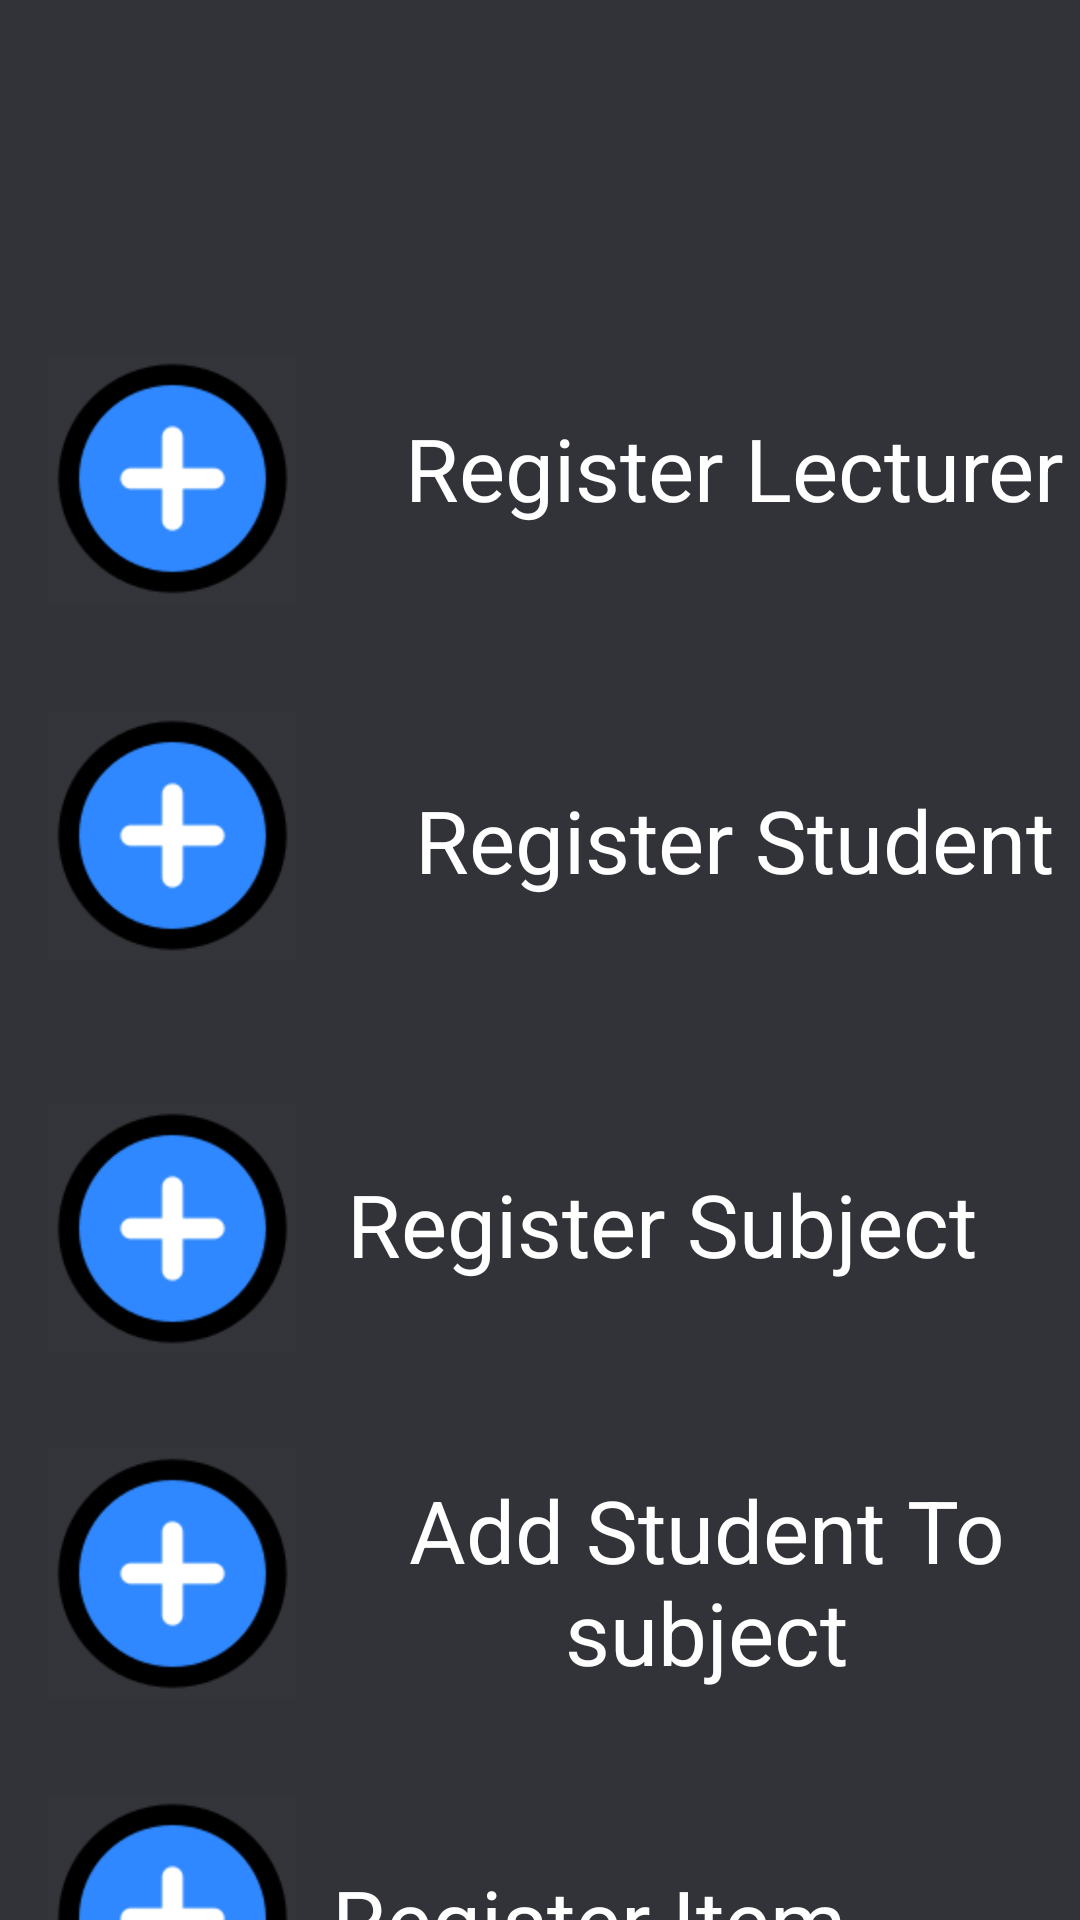

Icons on this 1080 x 1920 Android screen, each with its box as bbox(x1, y1, x2, y2):
addicon: bbox(58, 364, 287, 593), bbox(58, 721, 287, 950), bbox(58, 1114, 287, 1343), bbox(58, 1459, 287, 1688)
